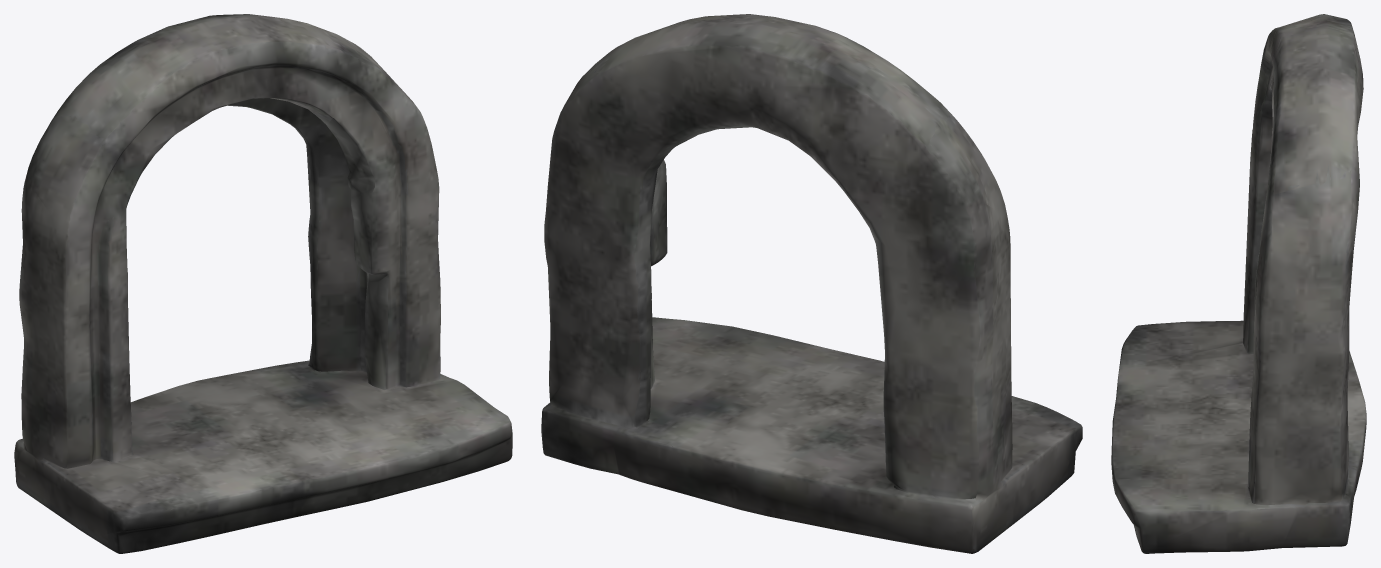
The model's file is rustic-granite-arched-doorway-v001.glb.
3 renders of one model, left to right at view 1: azimuth 30°, elevation 25°; view 2: azimuth 150°, elevation 25°; view 3: azimuth 270°, elevation 25°, orthographic. The views are drawn at different scales.
Parts seen in each view (by area): view 1: rustic-granite-arched-doorway; view 2: rustic-granite-arched-doorway; view 3: rustic-granite-arched-doorway.
Part boxes in pixels (left/top/right/bottom): rustic-granite-arched-doorway: left=14, top=14, right=512, bottom=553; rustic-granite-arched-doorway: left=541, top=14, right=1082, bottom=553; rustic-granite-arched-doorway: left=1111, top=14, right=1366, bottom=553.
Size of the model in its own units: 2.79 by 2.81 by 1.57.
Materials: 1 (1 with a texture image).
